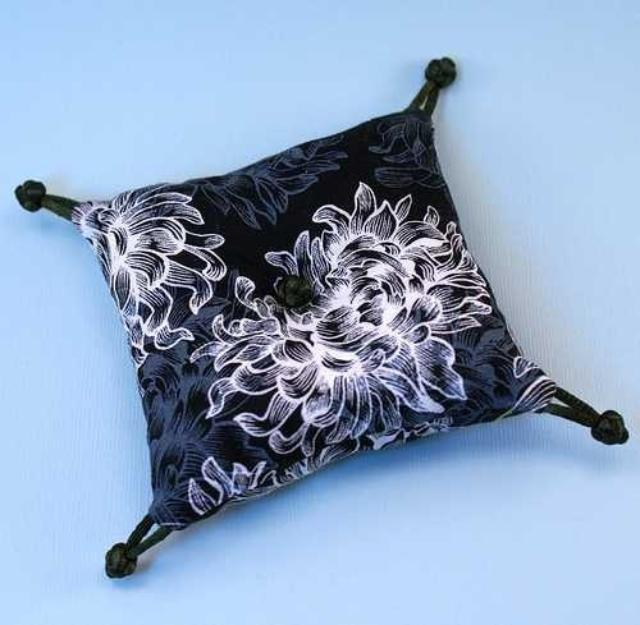pillow: (14, 55, 628, 579)
